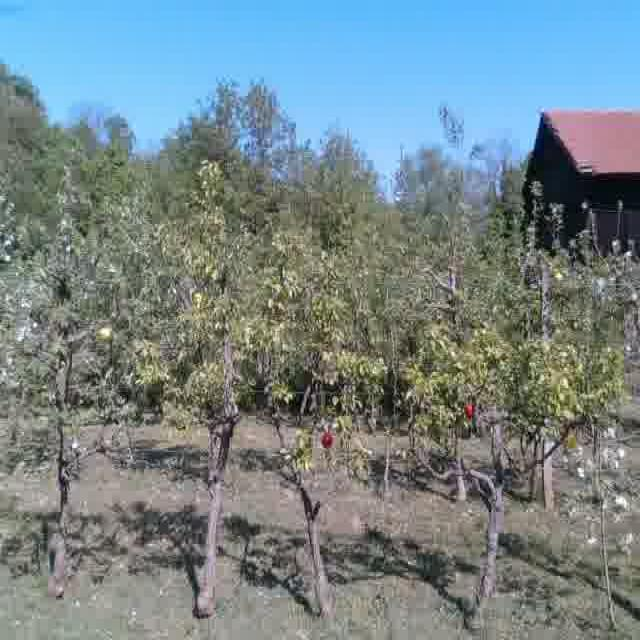red: (320, 429, 336, 448), (462, 403, 477, 420)
yellow: (95, 322, 116, 343)
